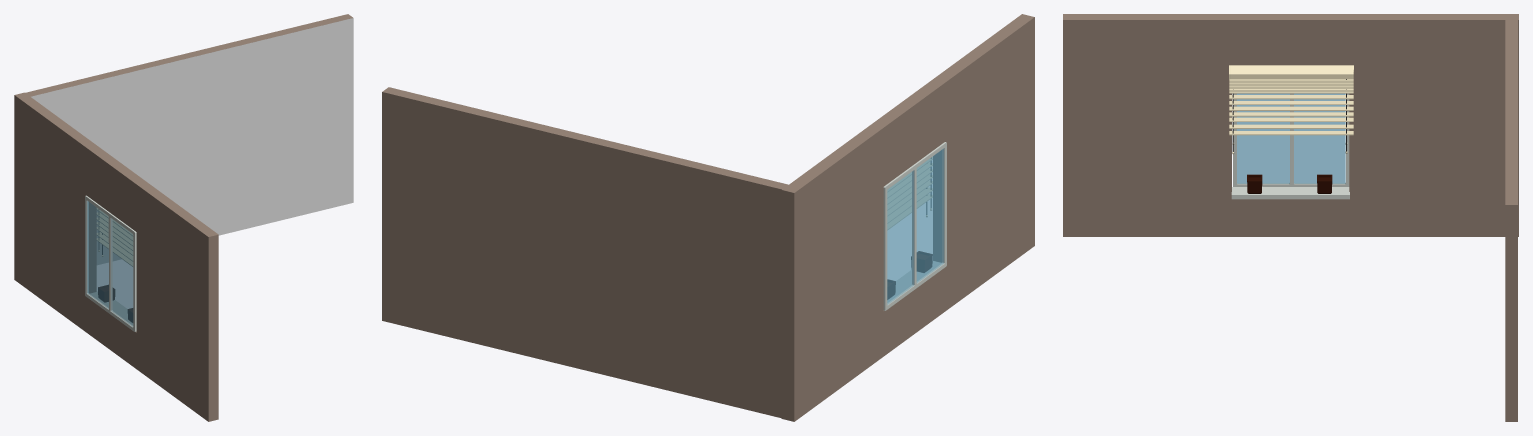
File: walls_tier13.fbx
3 renders of one model, left to right at view 1: azimuth 30°, elevation 25°; view 2: azimuth 150°, elevation 25°; view 3: azimuth 270°, elevation 25°, orthographic. The views are drawn at different scales.
Parts seen in each view (by area): view 1: Cube.007, Cube, Cube.003, Cube.001; view 2: Cube.007, Cube, Cube.003, Cube.001; view 3: Cube, Cube.003, Cube.007, Cube.002, Cube.021, Cube.001, Cube.014, Cube.020, Cube.017, Cube.016, Cube.018, Cube.019 (+1 smaller).
Part boxes in pixels (<box>): Cube.007: <box>24,14,353,264</box>; Cube: <box>14,92,218,421</box>; Cube.003: <box>87,201,133,326</box>; Cube.001: <box>85,195,136,331</box>; Cube.007: <box>382,87,788,418</box>; Cube: <box>781,14,1034,421</box>; Cube.003: <box>887,149,943,304</box>; Cube.001: <box>883,142,946,310</box>; Cube: <box>1063,14,1518,236</box>; Cube.003: <box>1237,93,1345,183</box>; Cube.007: <box>1505,19,1517,421</box>; Cube.002: <box>1229,65,1353,79</box>; Cube.021: <box>1231,187,1349,199</box>; Cube.001: <box>1233,93,1349,186</box>; Cube.014: <box>1229,95,1353,99</box>; Cube.020: <box>1229,131,1353,135</box>; Cube.017: <box>1229,112,1353,116</box>; Cube.016: <box>1229,106,1353,110</box>; Cube.018: <box>1229,117,1353,121</box>; Cube.019: <box>1229,124,1353,128</box>.
Bounding box in the file's own units: 655 × 346 × 658.
